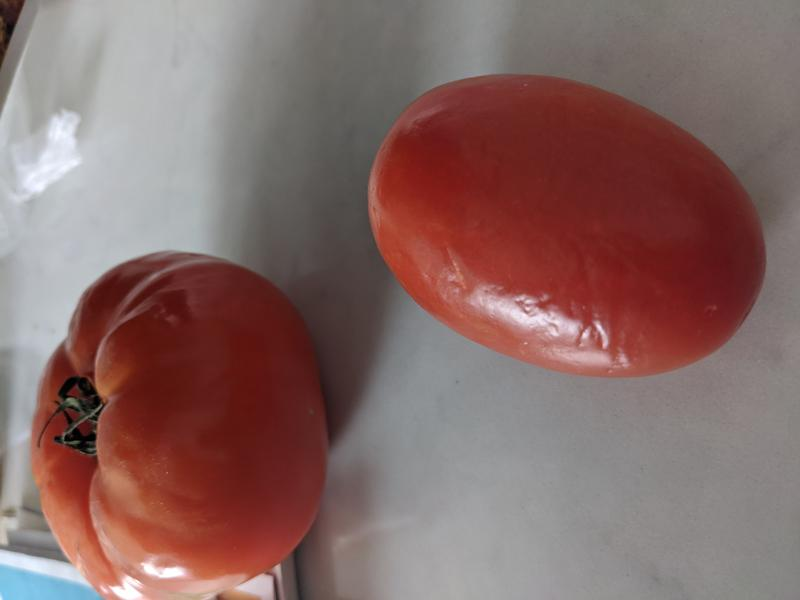tomato: (366, 73, 768, 379), (30, 249, 330, 600)
